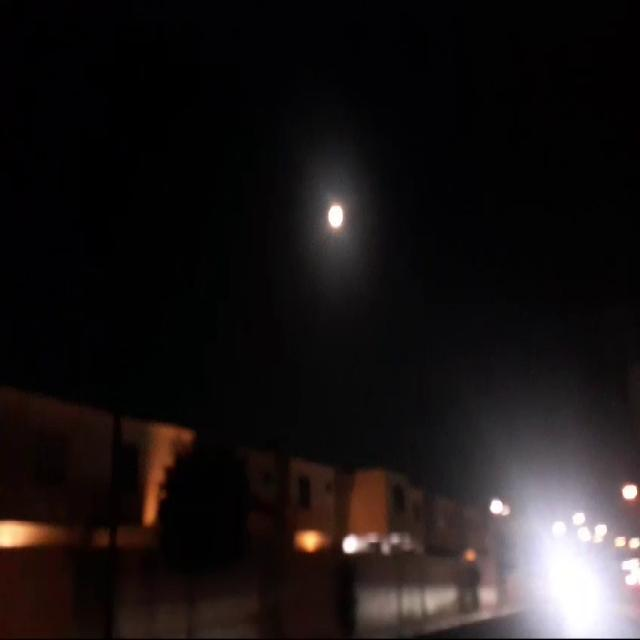moon: (348, 195, 367, 229)
